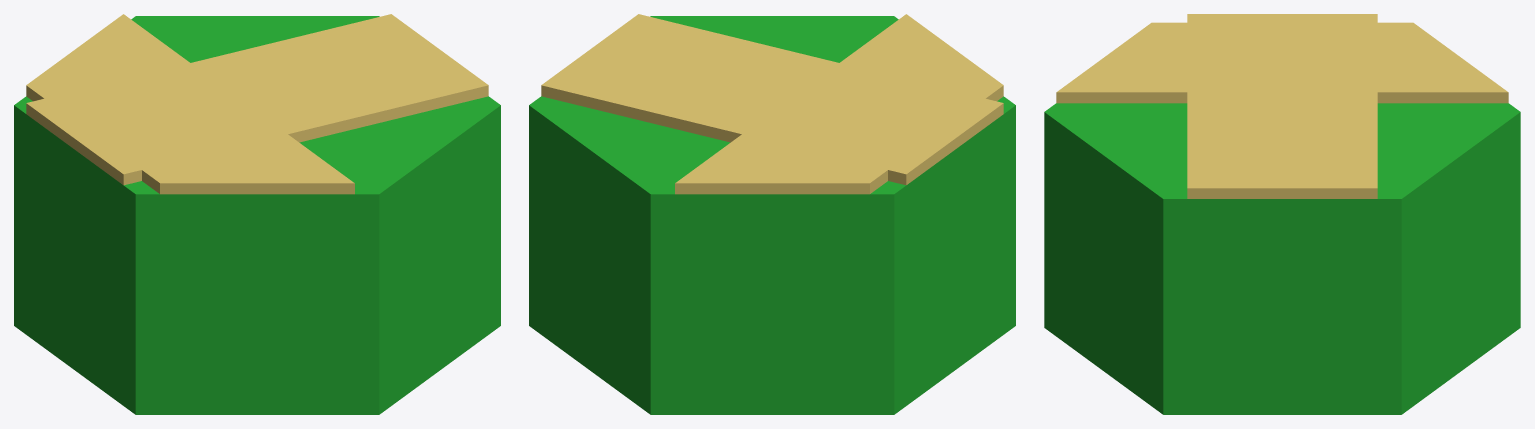
The model's file is path-fork_corner.glb.
3 views of the same model, side by side, from view 1: azimuth 30°, elevation 25°; view 2: azimuth 150°, elevation 25°; view 3: azimuth 270°, elevation 25° (orthographic). The views are drawn at different scales.
Parts seen in each view (by area): view 1: path-fork_corner; view 2: path-fork_corner; view 3: path-fork_corner.
Boxes of the visible parts, x1,y1,x2,y2 form: path-fork_corner: [14, 14, 500, 414]; path-fork_corner: [529, 14, 1015, 414]; path-fork_corner: [1044, 14, 1520, 414].
Bounding box in the file's own units: 0.866 × 0.525 × 1.
